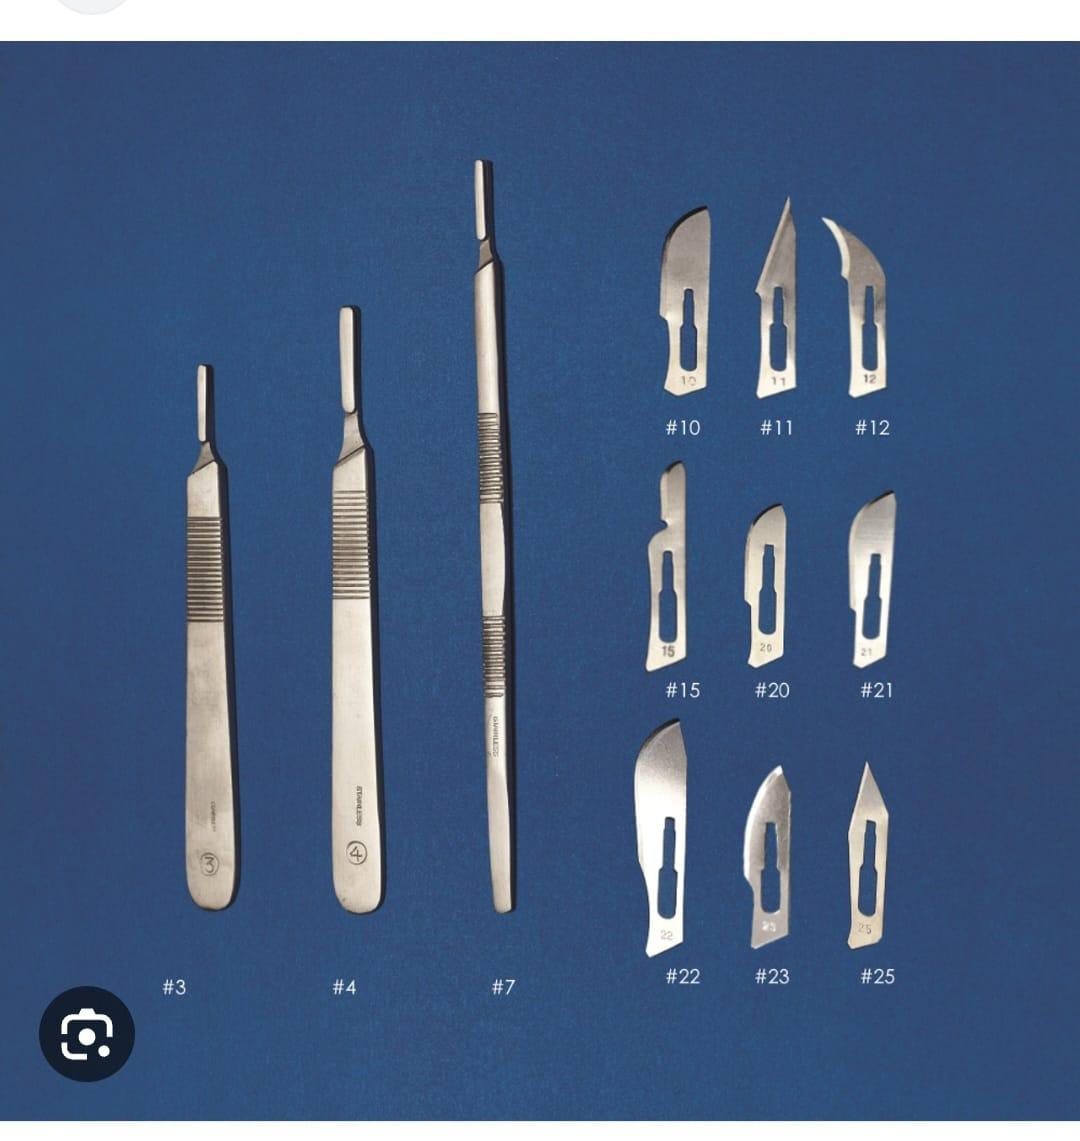Knife Blade: (618, 714, 719, 971), (633, 205, 730, 413), (815, 220, 927, 397), (831, 475, 912, 677), (729, 481, 808, 682), (836, 750, 906, 951), (733, 763, 803, 958), (747, 197, 810, 397)
Knife Handle: (146, 304, 273, 927), (315, 257, 402, 935)
